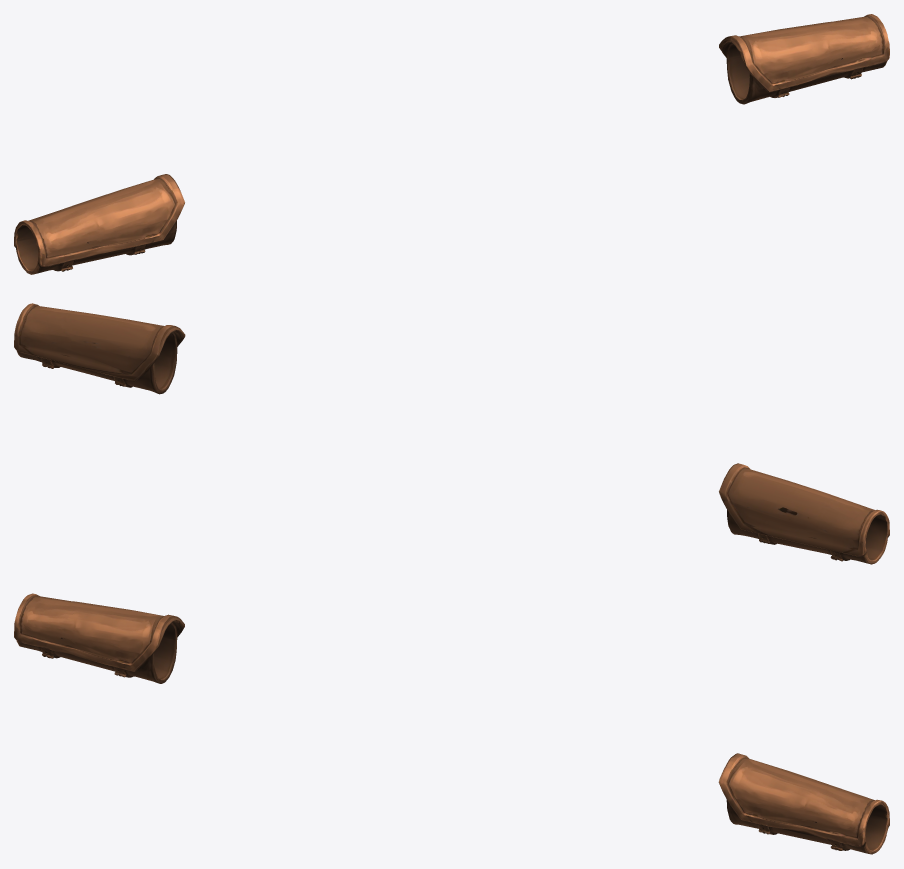
Rendered from berserk_m_bracers.glb.
3 renders of one model, top to bottom at view 1: azimuth 30°, elevation 25°; view 2: azimuth 150°, elevation 25°; view 3: azimuth 330°, elevation 25°, orthographic.
Visible parts, largest first — view 1: model; view 2: model; view 3: model.
Boxes of the visible parts, x1,y1,x2,y2 form: model: (14, 14, 889, 274); model: (14, 303, 889, 564); model: (14, 593, 889, 854).
Bounding box in the file's own units: 1.4 × 0.1061 × 0.0836.
1 material, 1 textured.
